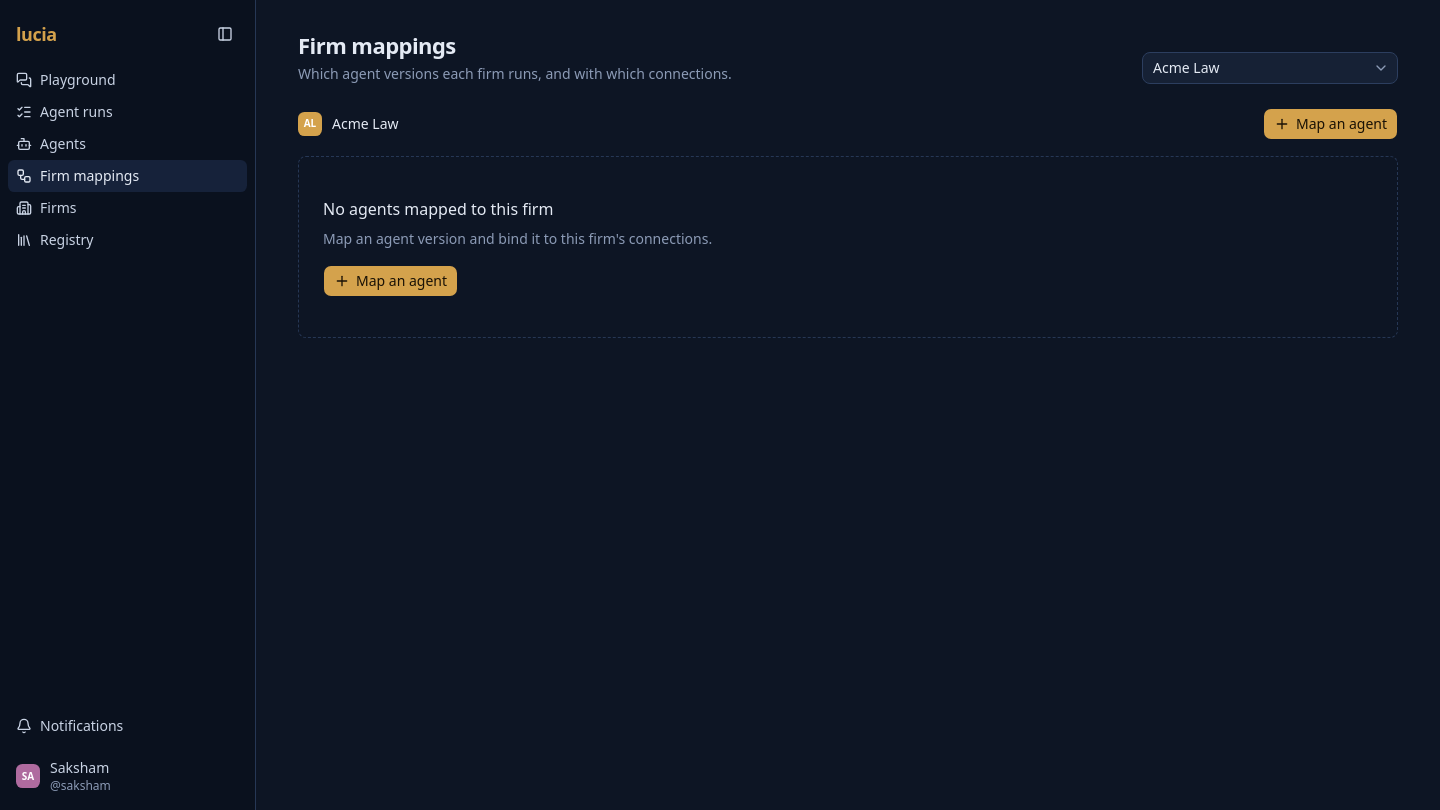
Scenario: create mapping › a 409 offers to switch the active mapping's version instead
This screenshot has width=1440, height=810.
Step 1. Click the button "Map an agent" in the row of "AL" → (1330, 124), box [1263,108,1398,140]
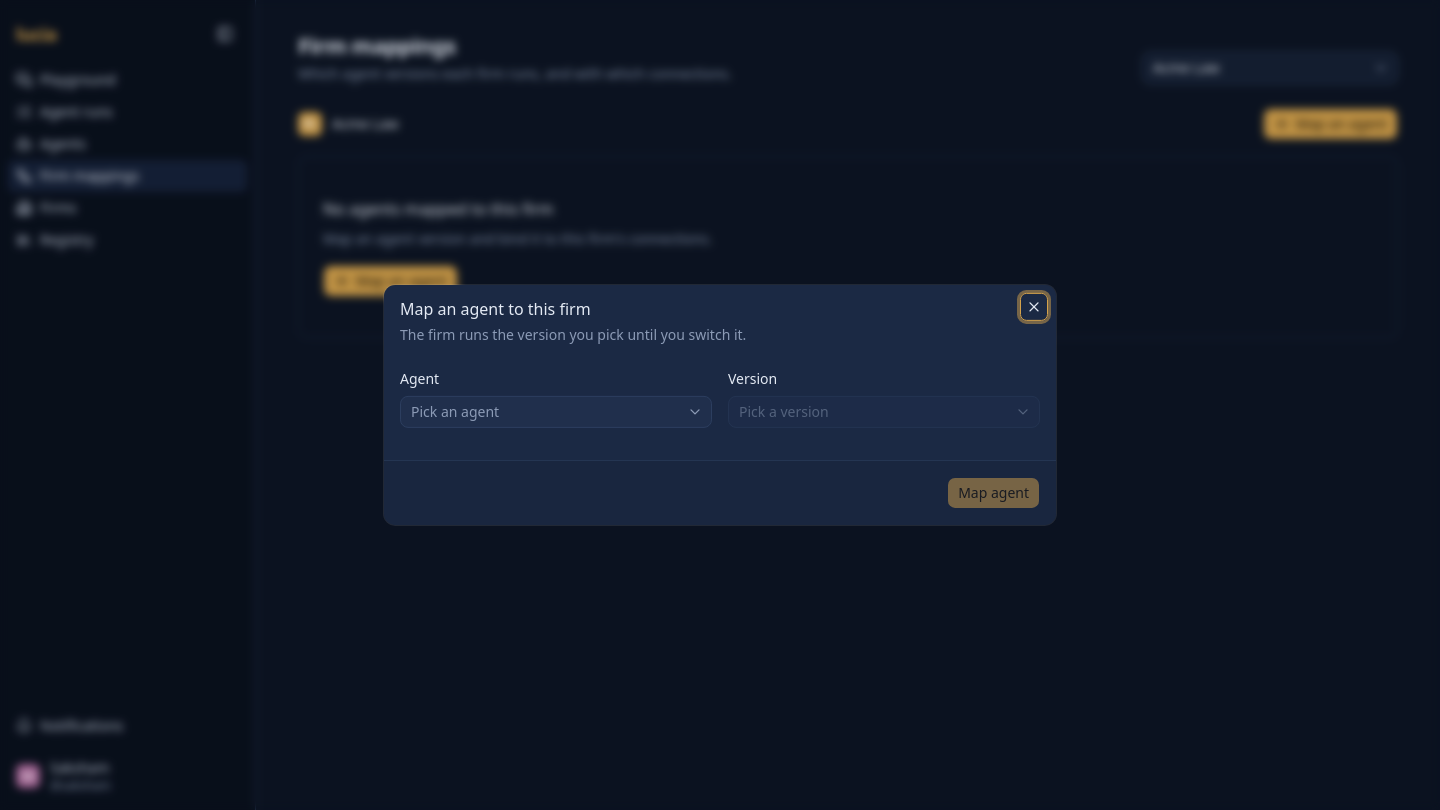
Step 2. Click the dropdown labelled "agent" → (455, 412), box [400,396,712,428]
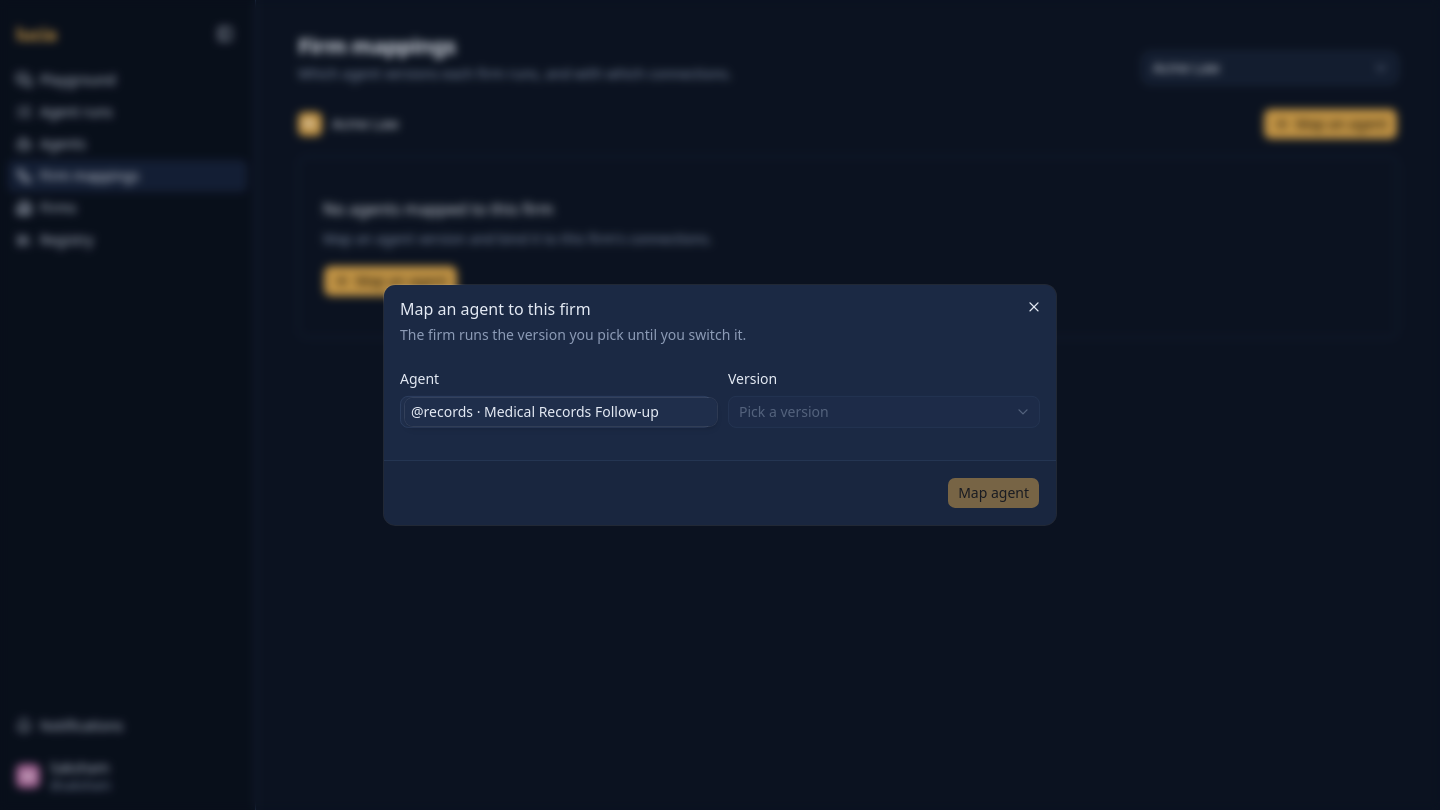
Step 3. Click the option "@records · Medical Records Follow-up" → (561, 412), box [405,398,717,426]
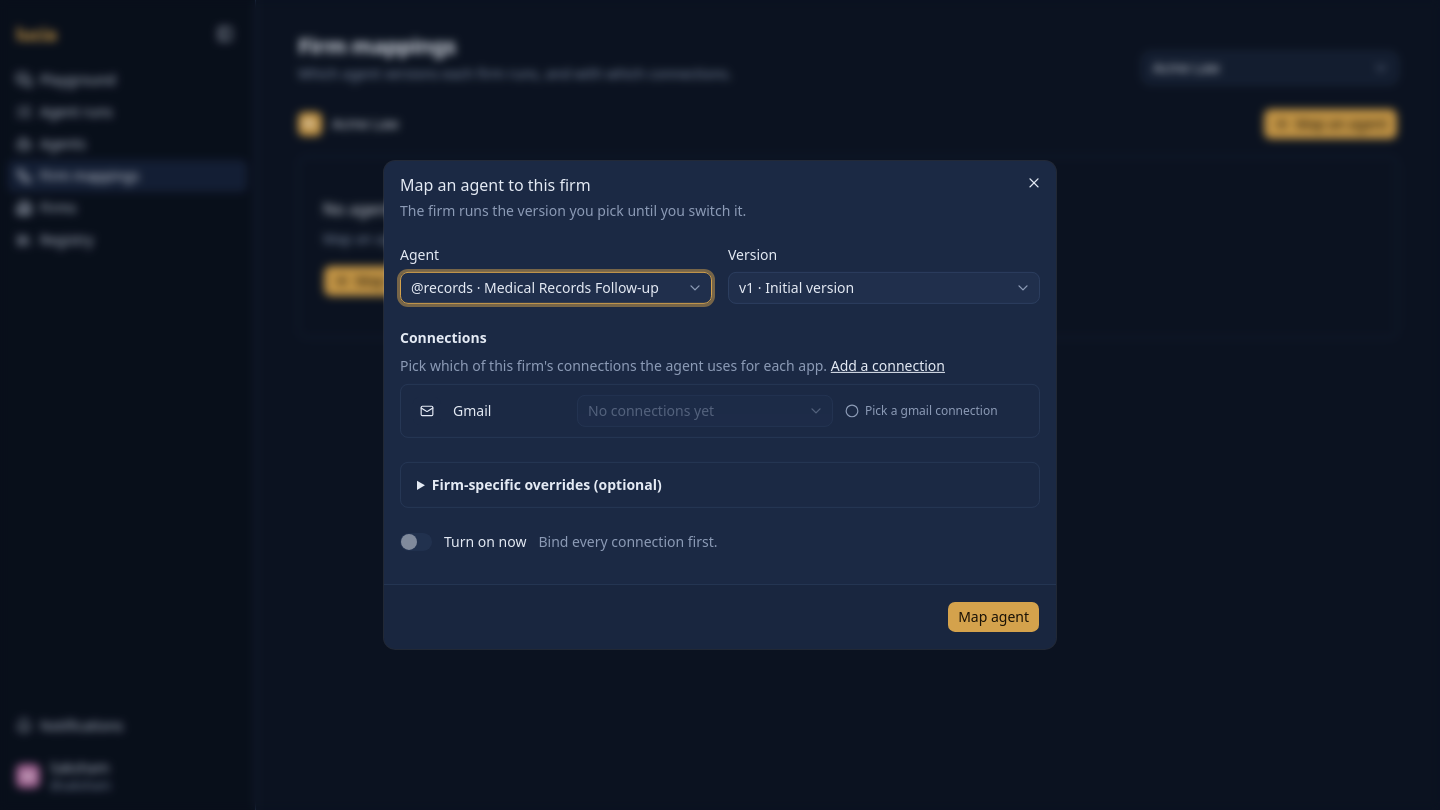
Step 4. Click the button "Map agent" → (994, 617), box [947,601,1040,633]
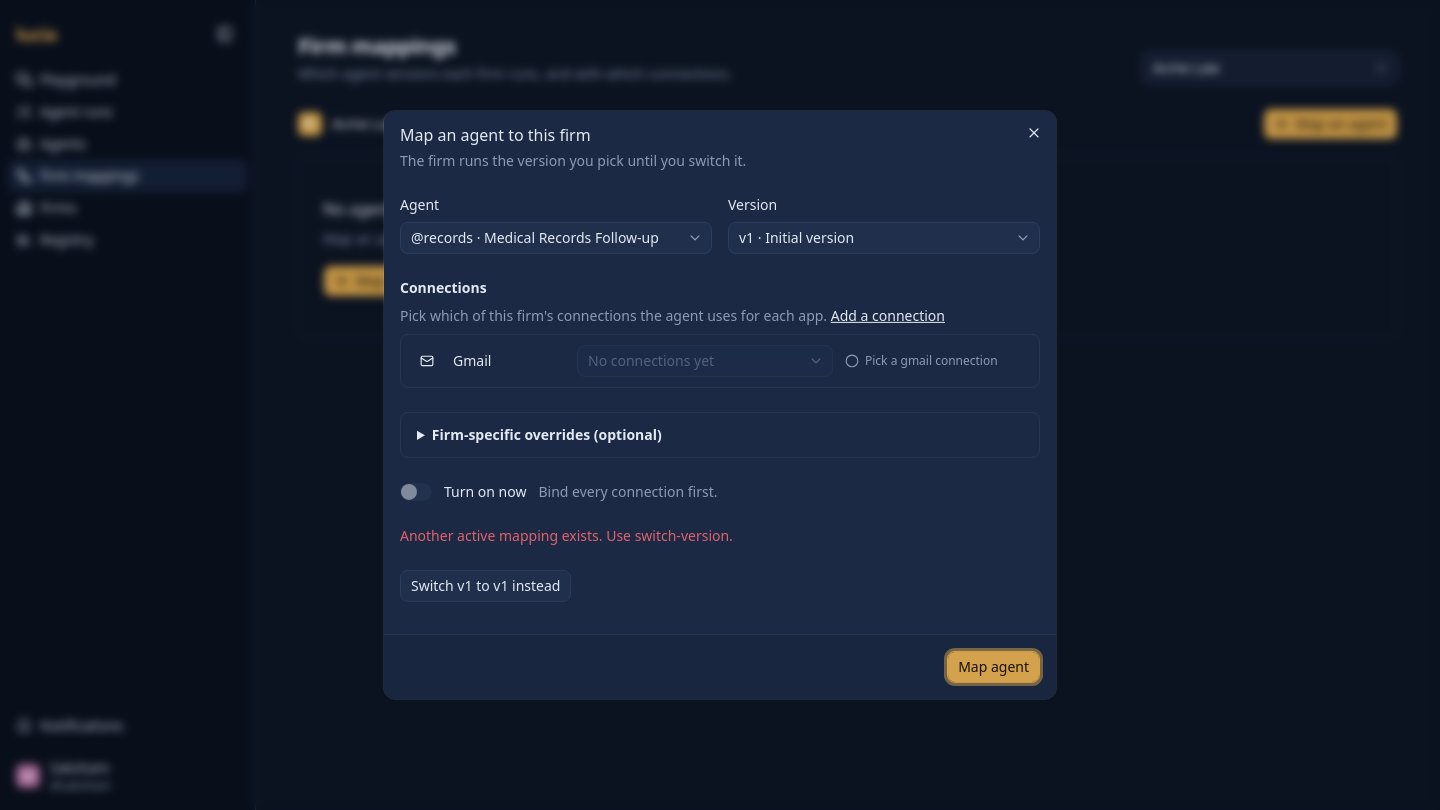
Step 5. Click the button "Switch v1 to v1 instead" → (486, 586), box [400,570,572,602]
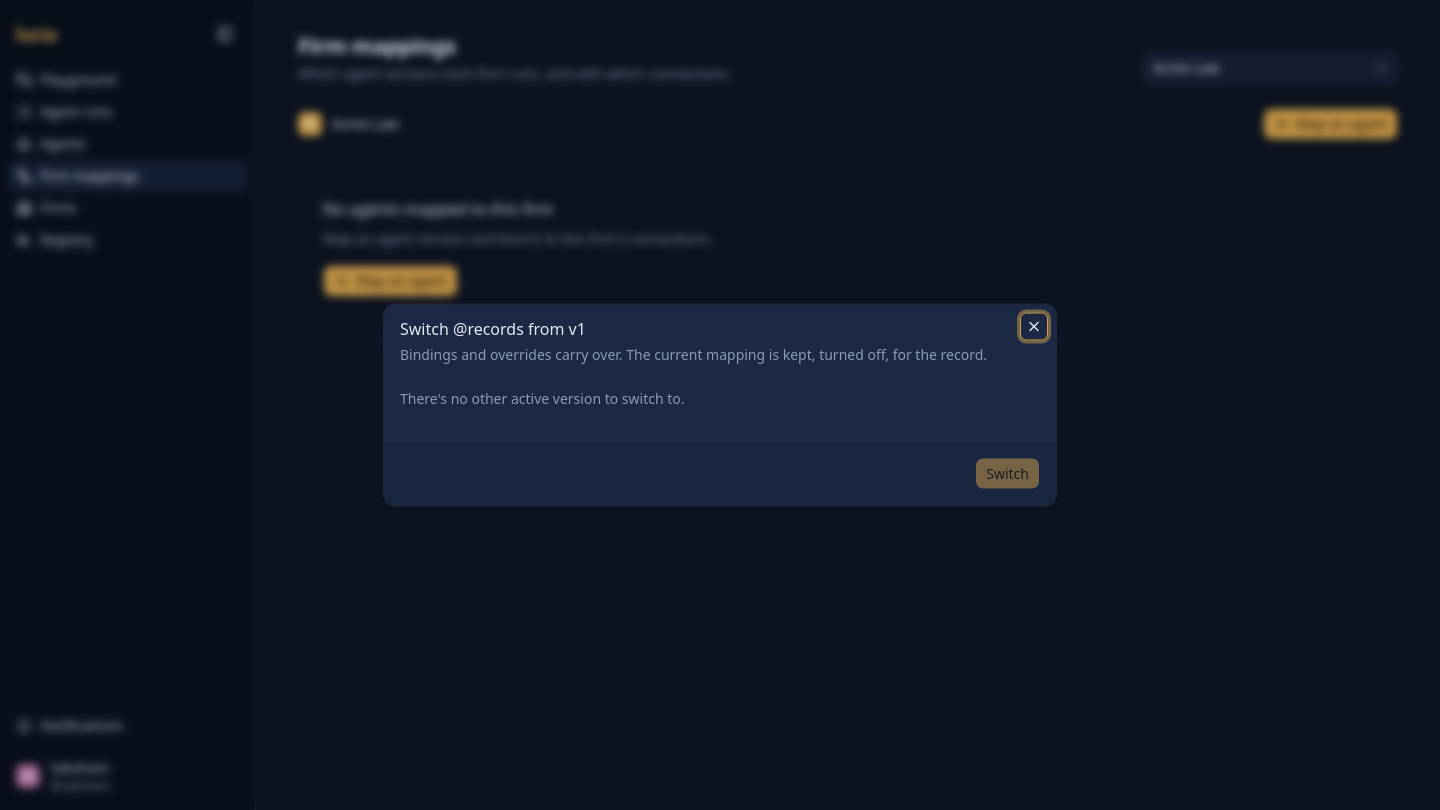
expect the heading "Switch @records from v1" is shown: met, box [400,318,586,340]
